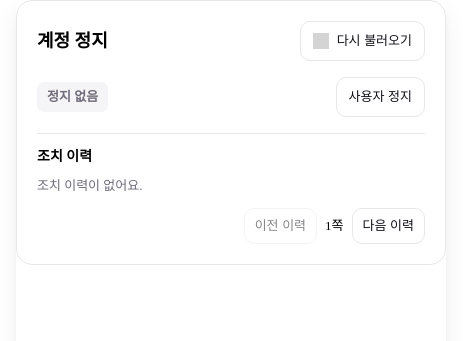
Test: 관리자 조치 확인 › 이력을 불러오는 동안 반복 클릭과 변경을 잠그고 늦은 응답을 취소한다
Click the button "다음 이력".
click(388, 226)  # box [352, 208, 425, 244]
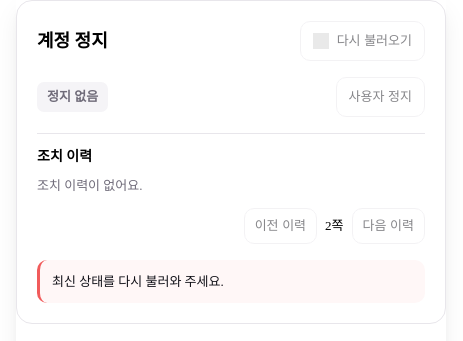
Now the button "다음 이력" is disabled, box [352, 208, 425, 244]
Now the button "사용자 정지" is disabled, box [336, 77, 425, 117]
